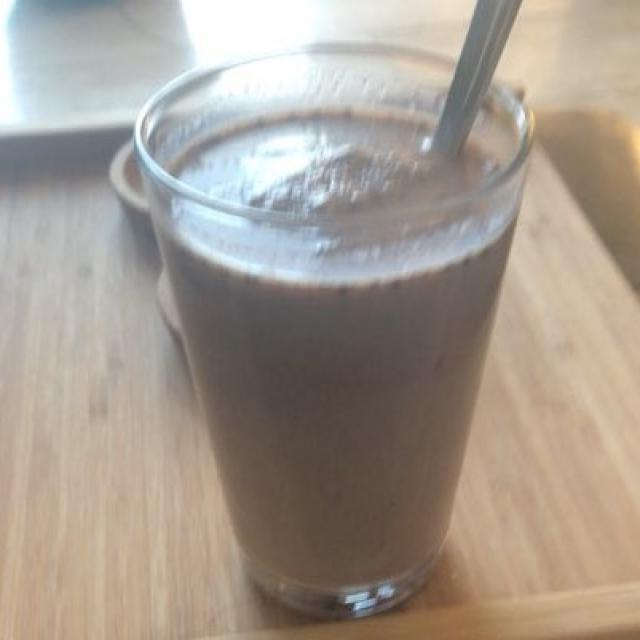milk: (177, 113, 522, 588)
